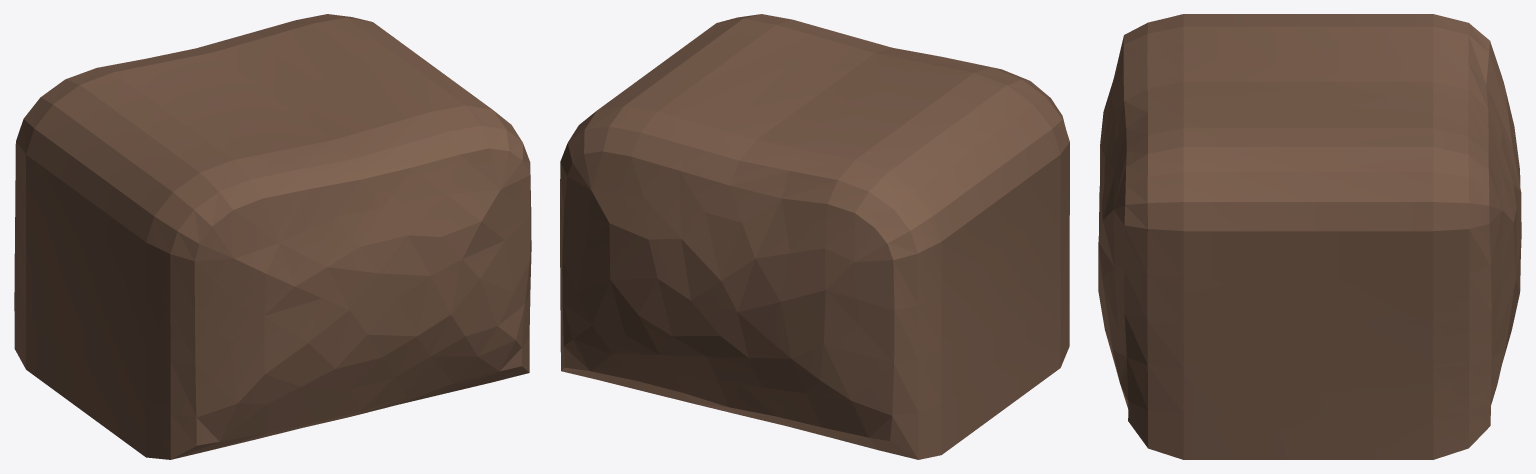
The model's file is boulder.glb.
The picture shows the model from 3 angles, left to right: view 1: azimuth 30°, elevation 25°; view 2: azimuth 150°, elevation 25°; view 3: azimuth 270°, elevation 25°; orthographic projection. The views are drawn at different scales.
Visible parts, largest first — view 1: Boulder; view 2: Boulder; view 3: Boulder.
Part boxes in pixels (box(x1,y1,x2,y2)): Boulder: box(14, 14, 531, 459); Boulder: box(560, 14, 1069, 459); Boulder: box(1098, 14, 1521, 459).
Bounding box in the file's own units: 1.8 × 1.27 × 1.69.
